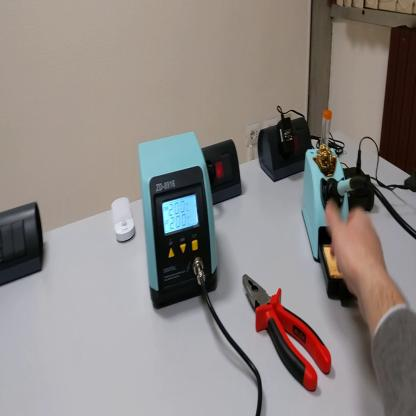electric screwdriver battery: (346, 166, 374, 211)
hand: (326, 201, 388, 306)
pliers: (243, 277, 332, 396)
socket: (258, 117, 314, 183), (197, 139, 245, 209)
welder base: (302, 143, 358, 307)
welder probe tip: (324, 175, 368, 204)
welder station: (139, 130, 219, 312)
